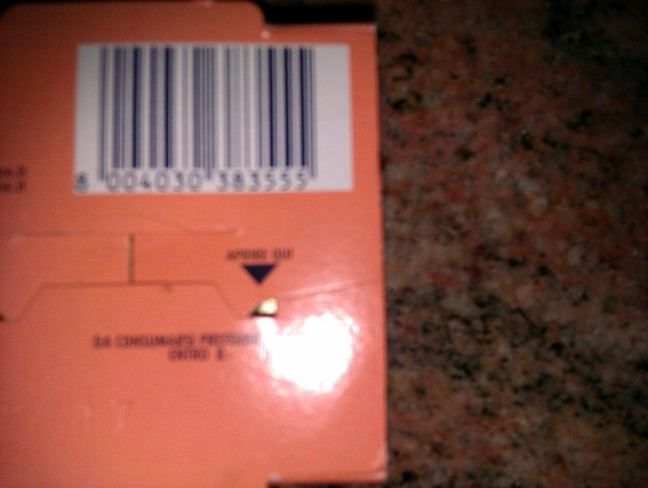detection: (75, 44, 351, 194)
